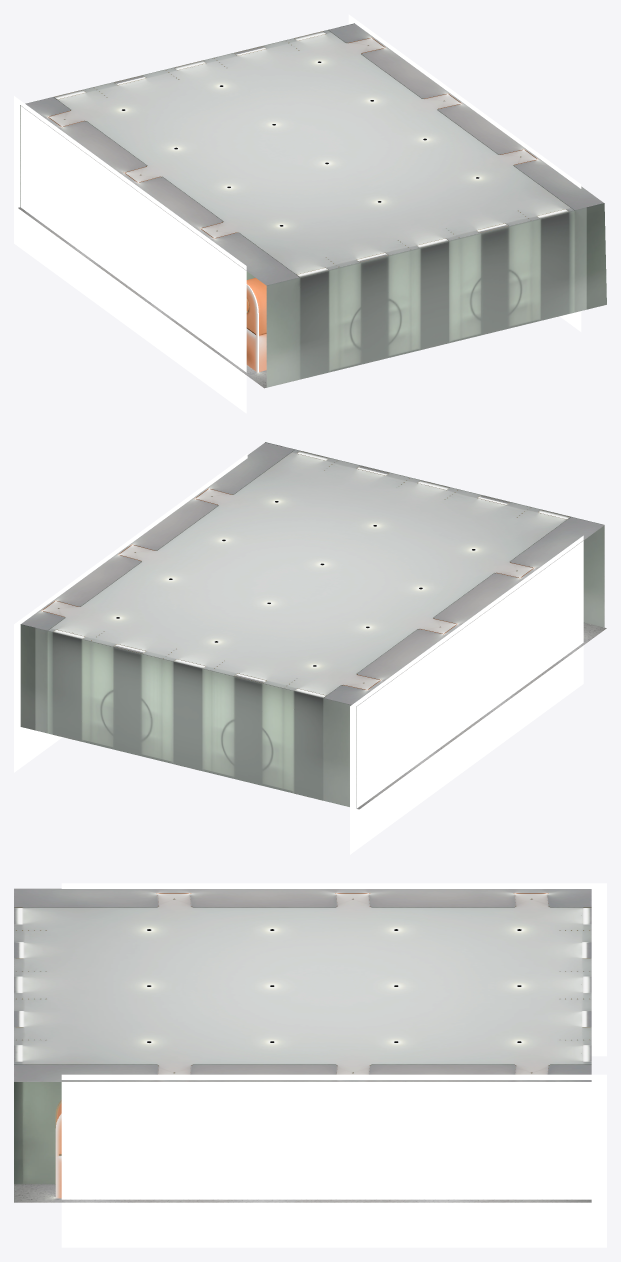
File: GardenAtelier.glb
3 renders of one model, top to bottom at view 1: azimuth 30°, elevation 25°; view 2: azimuth 150°, elevation 25°; view 3: azimuth 270°, elevation 25°, orthographic. The views are drawn at different scales.
Parts seen in each view (by area): view 1: Cealing, Green_wall, Plane, Orrange_obj, Flooor; view 2: Cealing, Plane, Green_wall, Flooor; view 3: Cealing, Plane, Green_wall, Flooor, Orrange_obj.
Boxes of the visible parts, left/top/right/bottom form: Cealing: left=20, top=23, right=603, bottom=285; Green_wall: left=20, top=23, right=606, bottom=387; Plane: left=14, top=14, right=581, bottom=413; Orrange_obj: left=47, top=37, right=538, bottom=372; Flooor: left=18, top=207, right=266, bottom=388; Cealing: left=21, top=442, right=604, bottom=705; Plane: left=14, top=453, right=583, bottom=854; Green_wall: left=20, top=442, right=604, bottom=808; Flooor: left=357, top=622, right=606, bottom=809; Cealing: left=14, top=888, right=591, bottom=1081; Plane: left=61, top=883, right=606, bottom=1247; Green_wall: left=14, top=906, right=591, bottom=1184; Flooor: left=14, top=1184, right=591, bottom=1202; Orrange_obj: left=55, top=893, right=548, bottom=1198.
Size of the model in its own units: 55.48 by 22.87 by 70.95.
13 materials, 8 textured.
